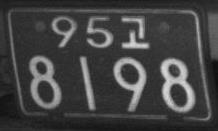1: (71, 55, 103, 111)
5: (85, 16, 115, 48)
8: (158, 55, 196, 114), (27, 54, 62, 110)
9: (112, 55, 147, 112), (50, 14, 77, 47)
고: (120, 15, 149, 49)
